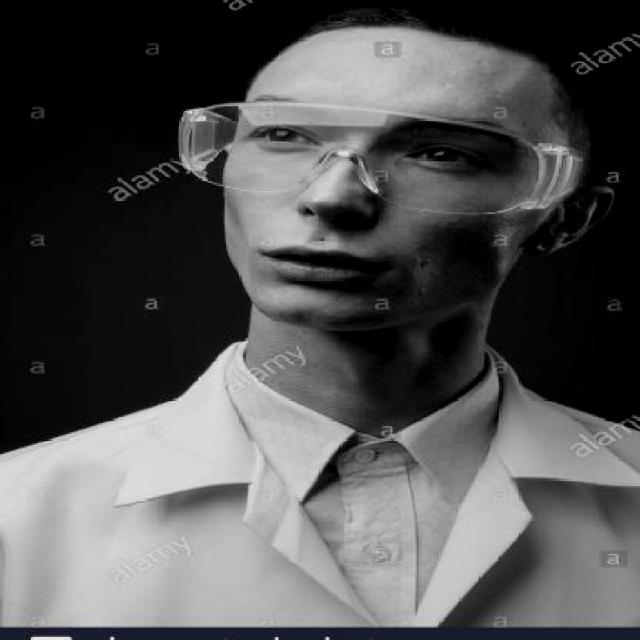face_nomask: (236, 109, 493, 302)
glasses: (176, 100, 582, 215)
